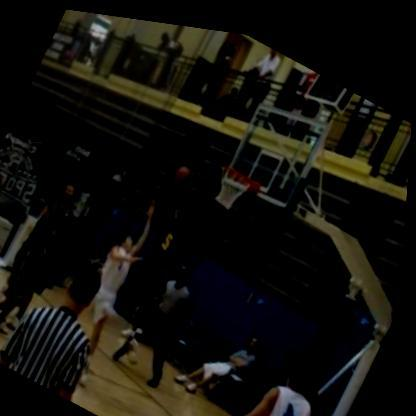basketball: (167, 152, 201, 190)
